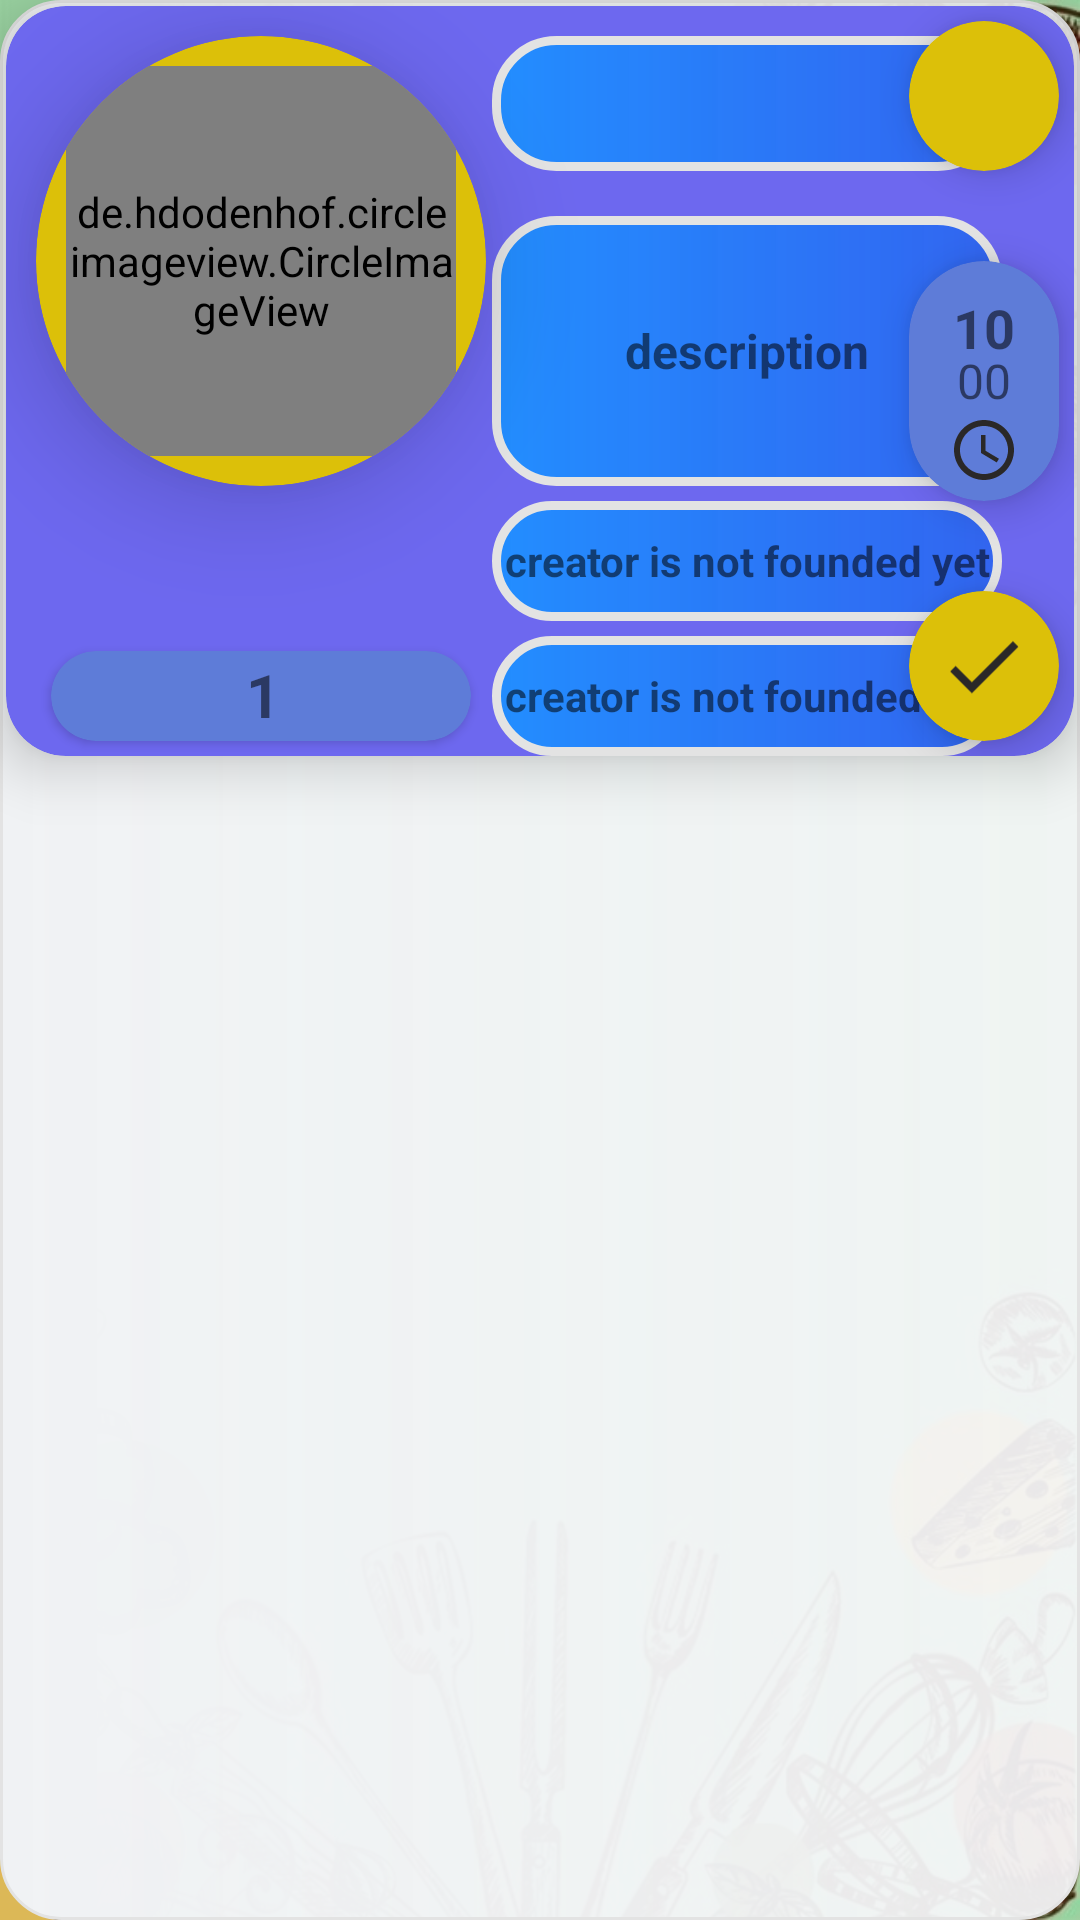

Icon bounding boxes for this 1080w x 1920h phone screenshot, format [left=x1, top=y1, right=x2, bottom=y2]:
access time: [left=954, top=420, right=1014, bottom=480]
done: [left=950, top=641, right=1018, bottom=694]
